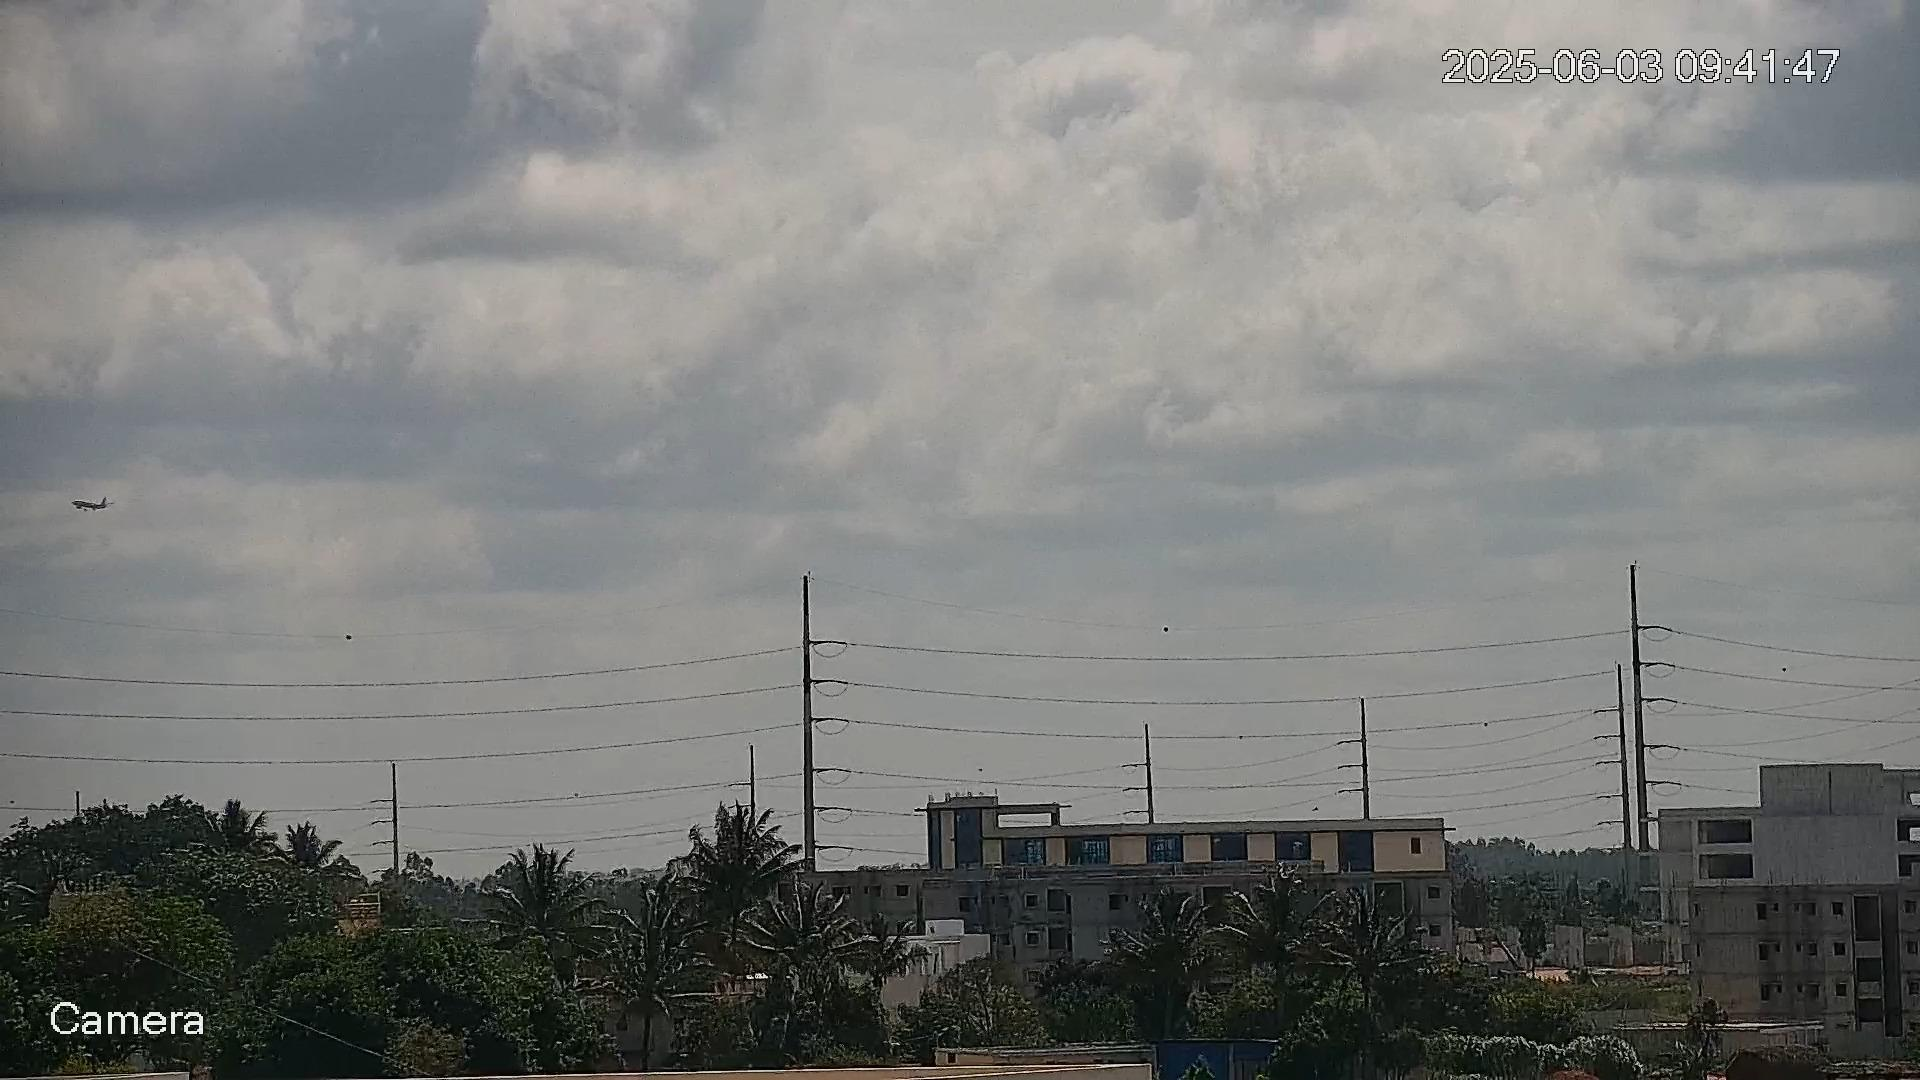Aircraft: (71, 495, 117, 513)
